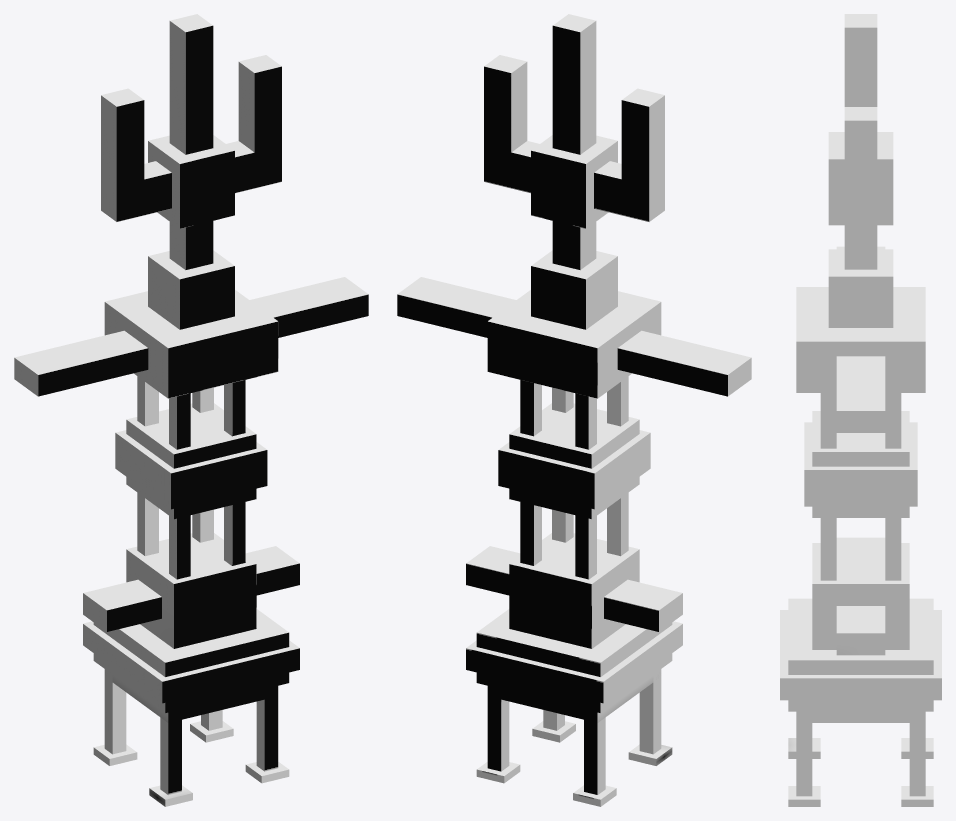
The model's file is temple.obj.
The picture shows the model from 3 angles, left to right: view 1: azimuth 30°, elevation 25°; view 2: azimuth 150°, elevation 25°; view 3: azimuth 270°, elevation 25°; orthographic projection.
Visible parts, largest first — view 1: cuboid; view 2: cuboid; view 3: cuboid.
Boxes of the visible parts, box(x1,y1,x2,y2) form: cuboid: box(14, 14, 368, 806); cuboid: box(397, 14, 751, 806); cuboid: box(780, 14, 941, 806).
Bounding box in the file's own units: 48 × 103 × 20.
